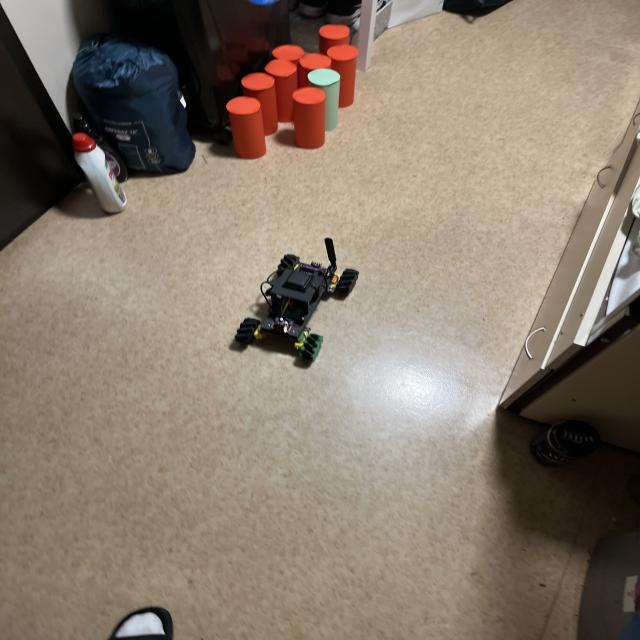robot: (235, 238, 359, 361)
